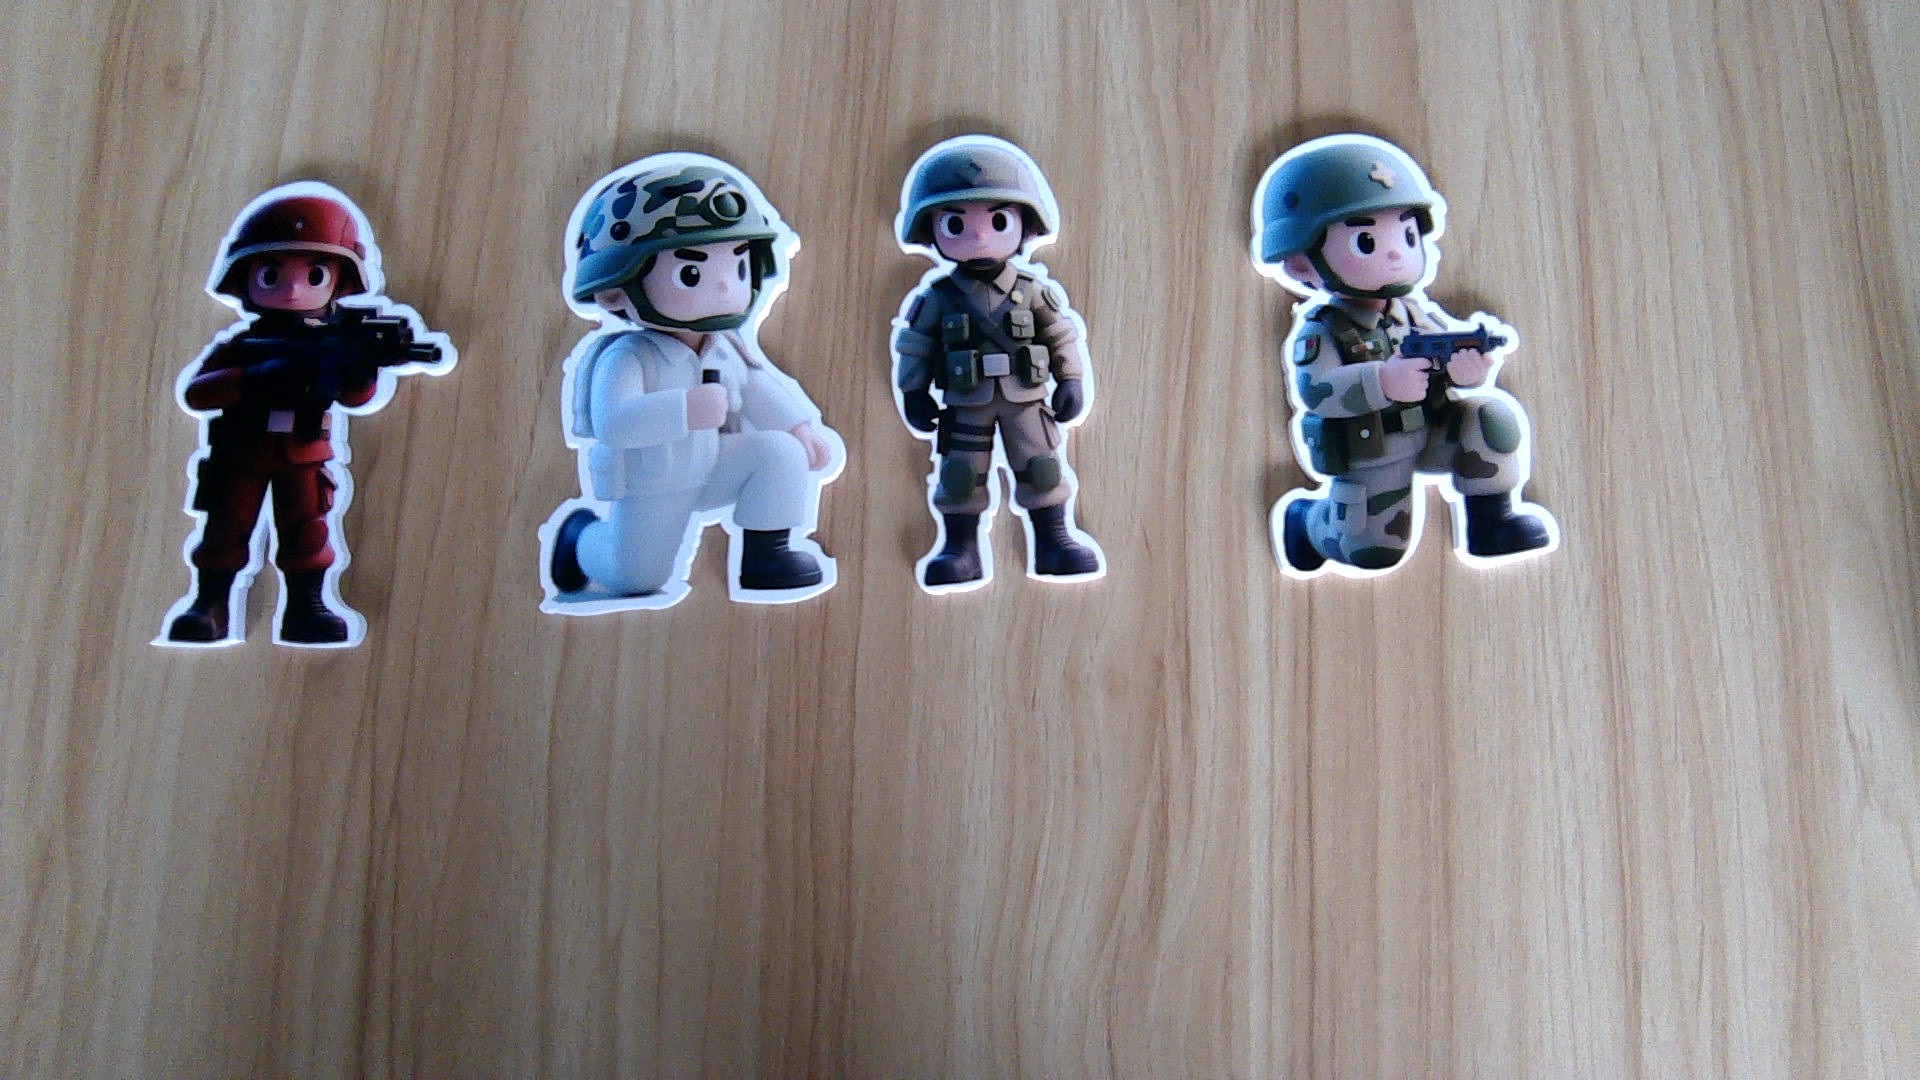人质: (527, 339, 848, 618)
友军: (1255, 301, 1565, 585), (878, 270, 1109, 593)
敌人1: (146, 318, 462, 647)
